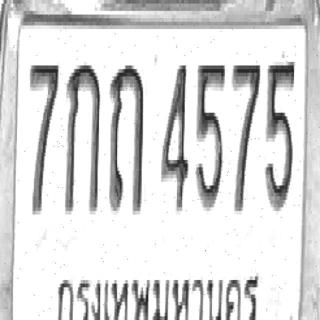A01: (64, 62, 100, 215)
A22: (109, 60, 144, 213)
N04: (160, 62, 188, 211)
N05: (265, 58, 295, 211), (195, 62, 225, 211)
N07: (28, 62, 58, 215), (232, 60, 260, 213)
P04: (45, 254, 270, 320)
